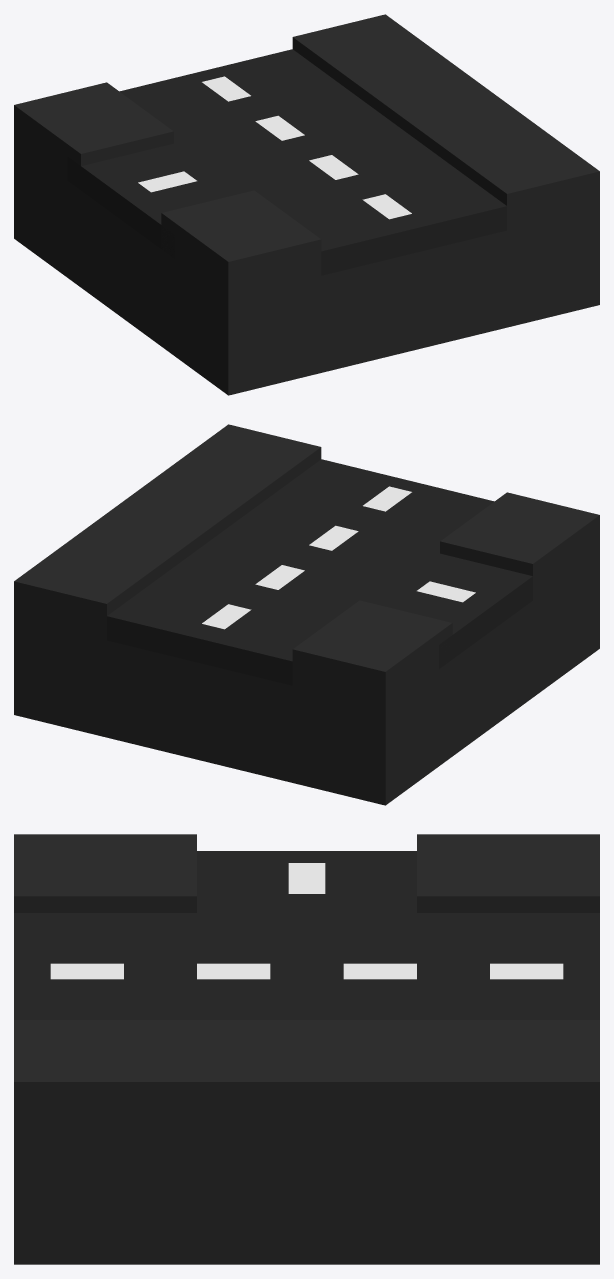
The model's file is city-junction.obj.
The picture shows the model from 3 angles, top to bottom: view 1: azimuth 30°, elevation 25°; view 2: azimuth 150°, elevation 25°; view 3: azimuth 270°, elevation 25°; orthographic projection. The views are drawn at different scales.
Visible parts, largest first — view 1: grass, road, plane; view 2: grass, road, plane; view 3: grass, road, plane.
Boxes of the visible parts, x1,y1,x2,y2 form: grass: (14, 14, 599, 395); road: (67, 49, 506, 275); plane: (138, 76, 411, 219); grass: (14, 424, 599, 805); road: (107, 459, 532, 685); plane: (202, 486, 475, 629); grass: (14, 834, 599, 1264); road: (14, 851, 599, 1019); plane: (50, 863, 563, 979).
Size of the model in its own units: 0.25 by 0.0859 by 0.25.
1 material, 1 textured.
